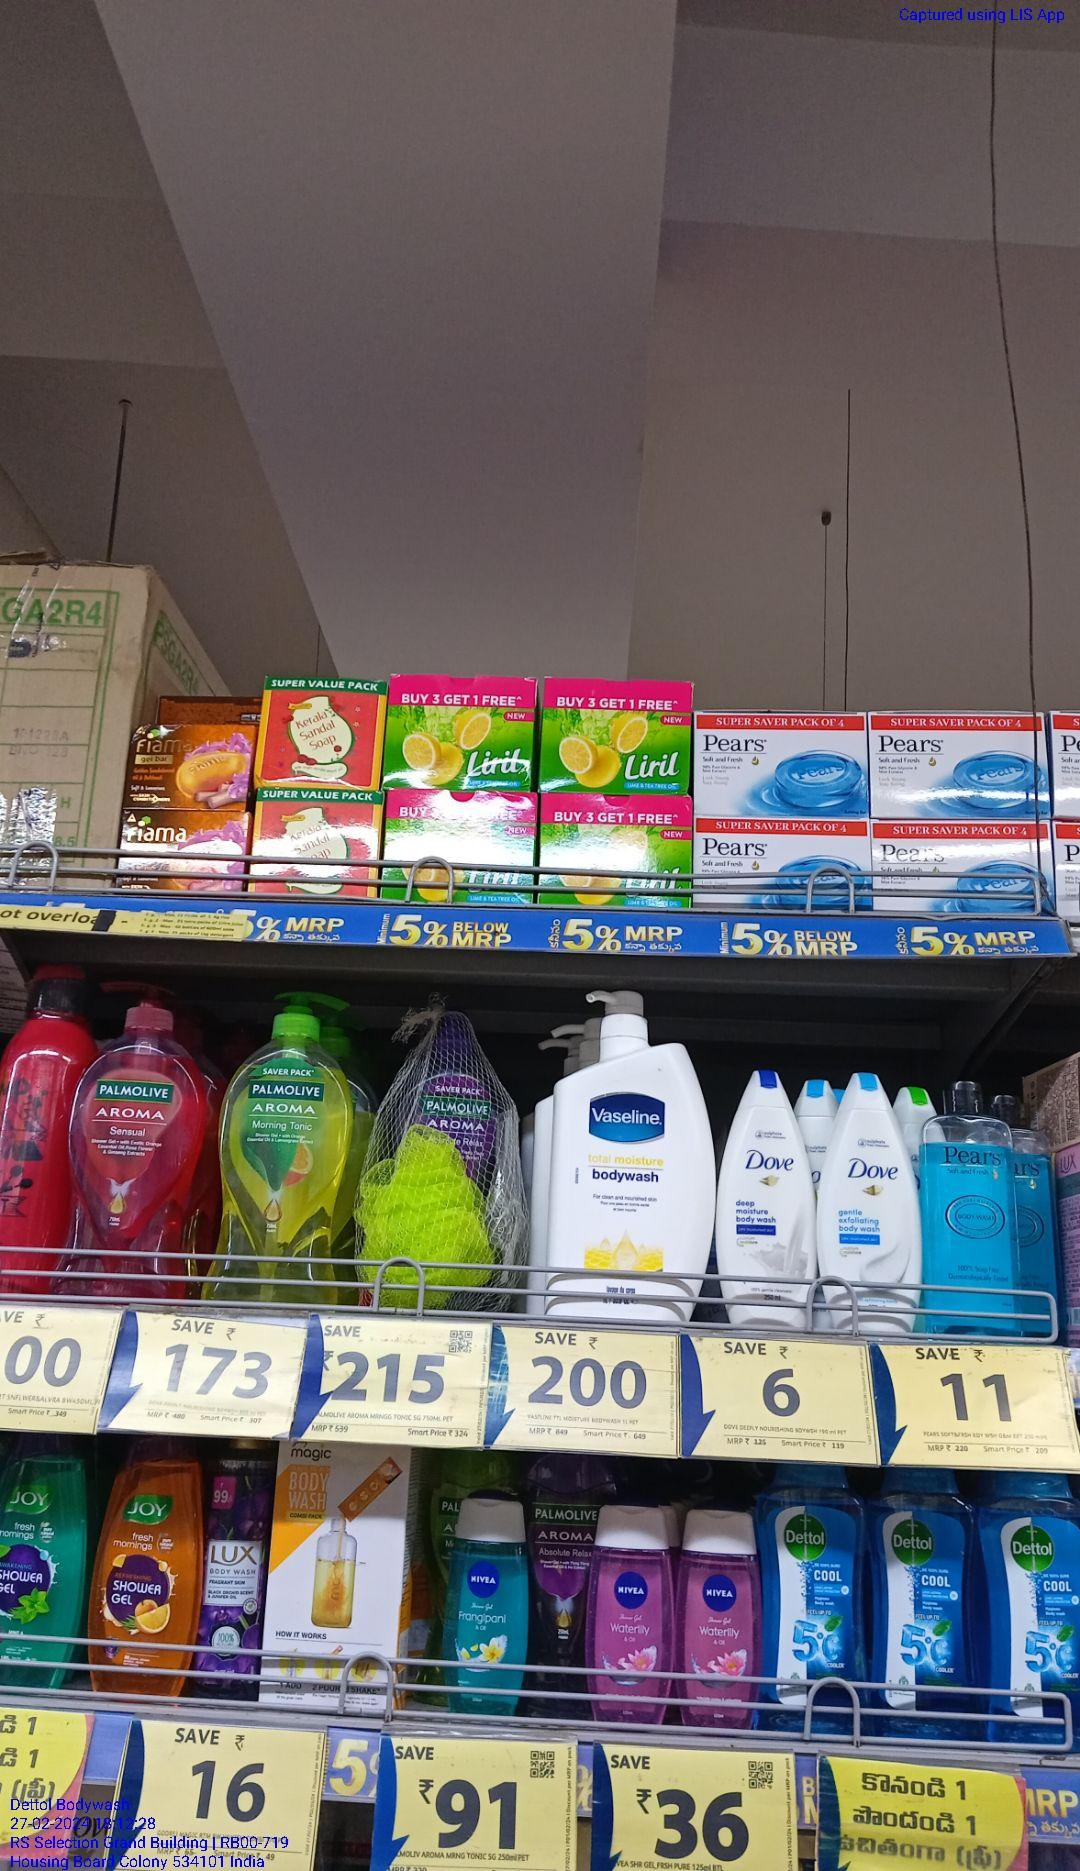Dettol_Bodywash_Cool: (768, 1451, 874, 1739), (878, 1473, 980, 1750), (982, 1469, 1080, 1750)
Dove_Deep_Moisture_Body_Wash_250ML: (720, 1067, 818, 1331)
Dove_Gentle_Exfoliating_Body_Wash_250ML: (823, 1068, 924, 1343)
Joy_Shower_Gel_Mandarin_and_Lemongrass_250ML: (93, 1435, 194, 1709)
Joy_Shower_Gel_Mint_and_Eucalyptus_250ML: (0, 1429, 87, 1692)
Lux_Black_Orchid_Scent_and_Juniper_Oil_Body_Wash_245ML: (202, 1434, 269, 1714)
Nivea_Shower_Gel_Frangipani_and_Oil_250ML: (453, 1498, 526, 1708)
Nivea_Shower_Gel_Waterlily_and_Oil_250ML: (588, 1510, 676, 1728), (683, 1506, 755, 1731)
Pears_Pure_Glycerin_and_Mint_Extracts_Body_Wash_250ML: (932, 1079, 1017, 1335)
